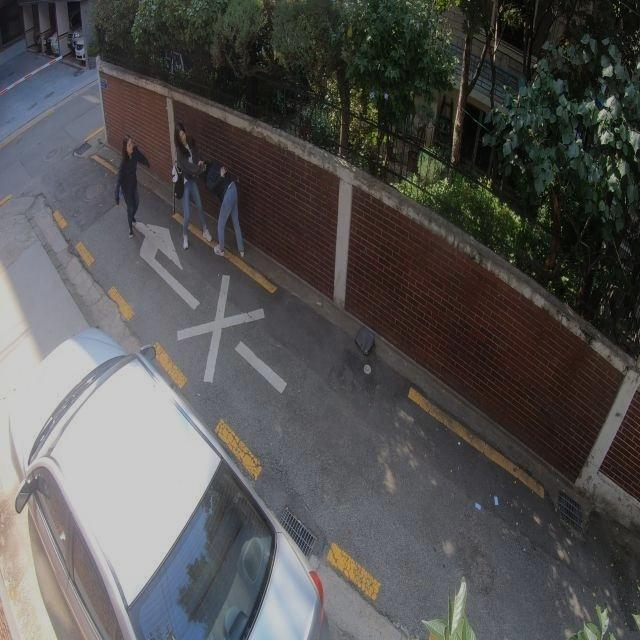fight: (166, 120, 247, 262)
non-fight: (111, 134, 156, 239)
